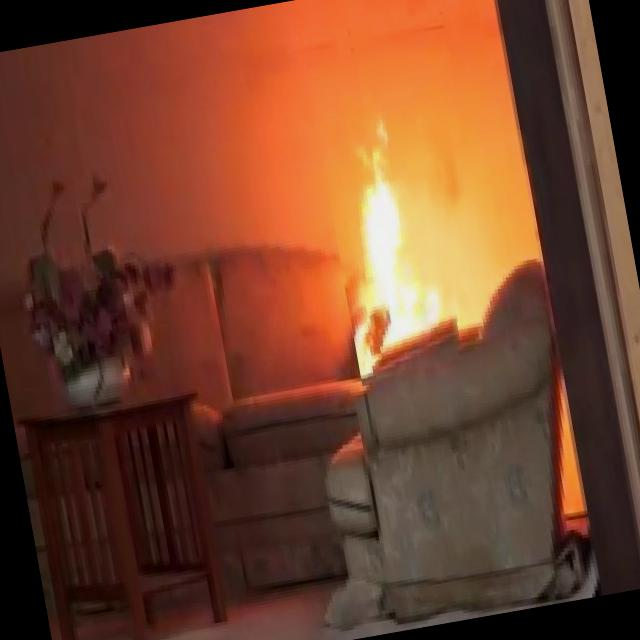fire: (322, 121, 470, 346)
